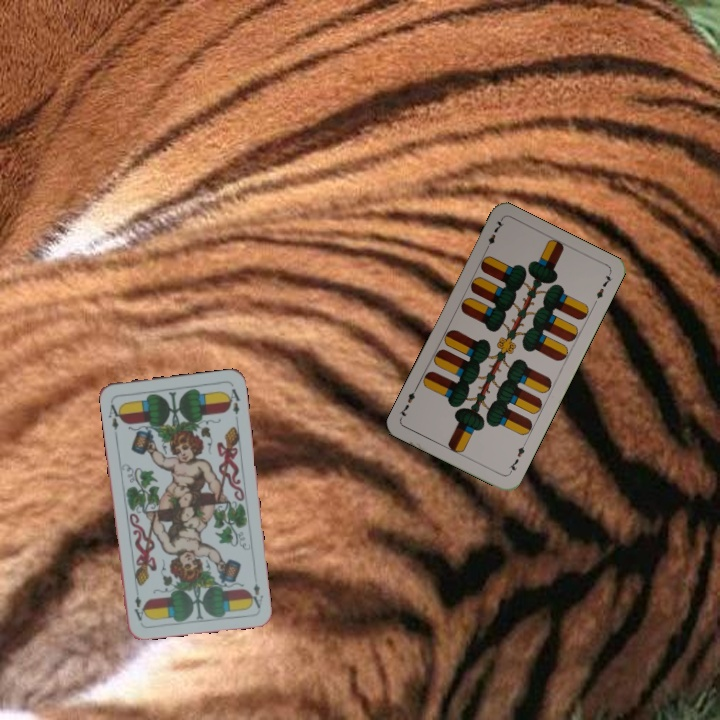E7: (481, 216, 507, 254), (504, 439, 528, 476)
EA: (104, 397, 125, 432), (246, 580, 266, 610)
